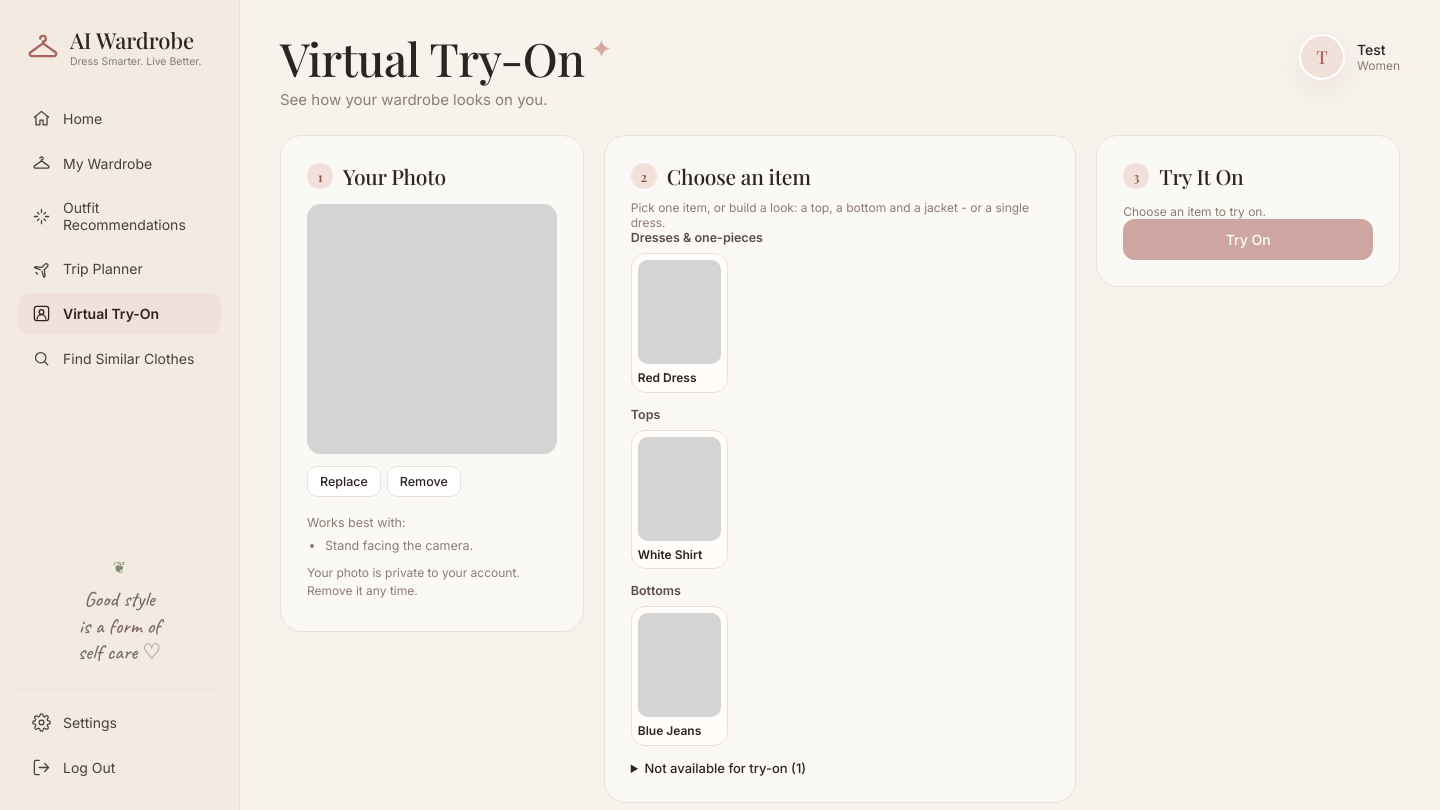
Scenario: user can select a garment and it is enabled once a photo exists
The width and height of the screenshot is (1440, 810).
Click the button "White Shirt".
click(679, 500)  # box [631, 430, 728, 569]
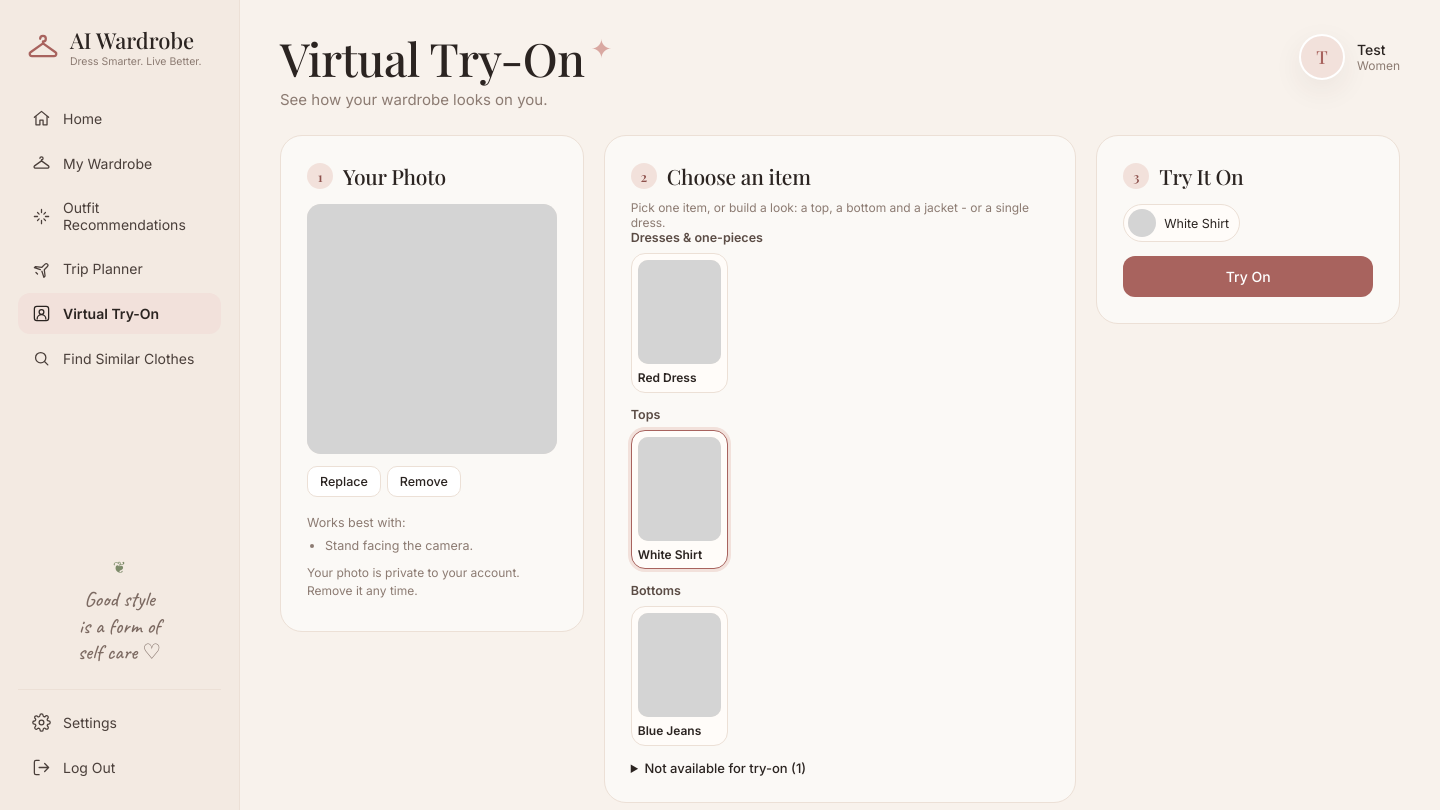
Result: the button "Try On" is enabled at [1123, 256, 1373, 297]
